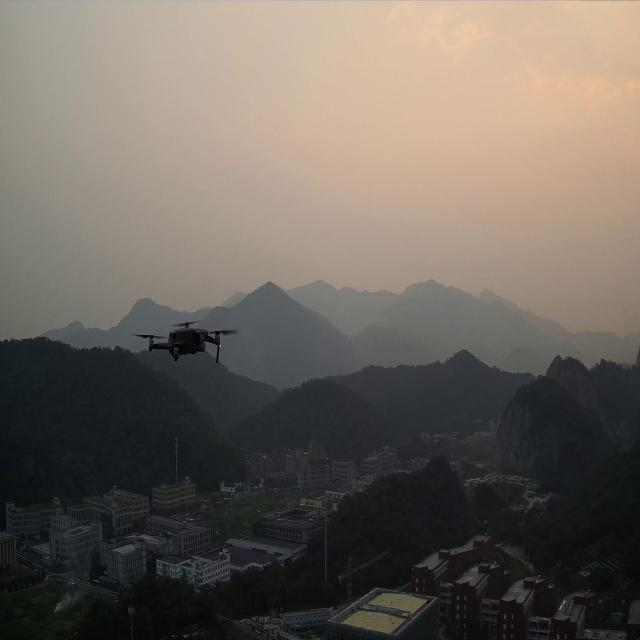UAV: (138, 319, 238, 365)
